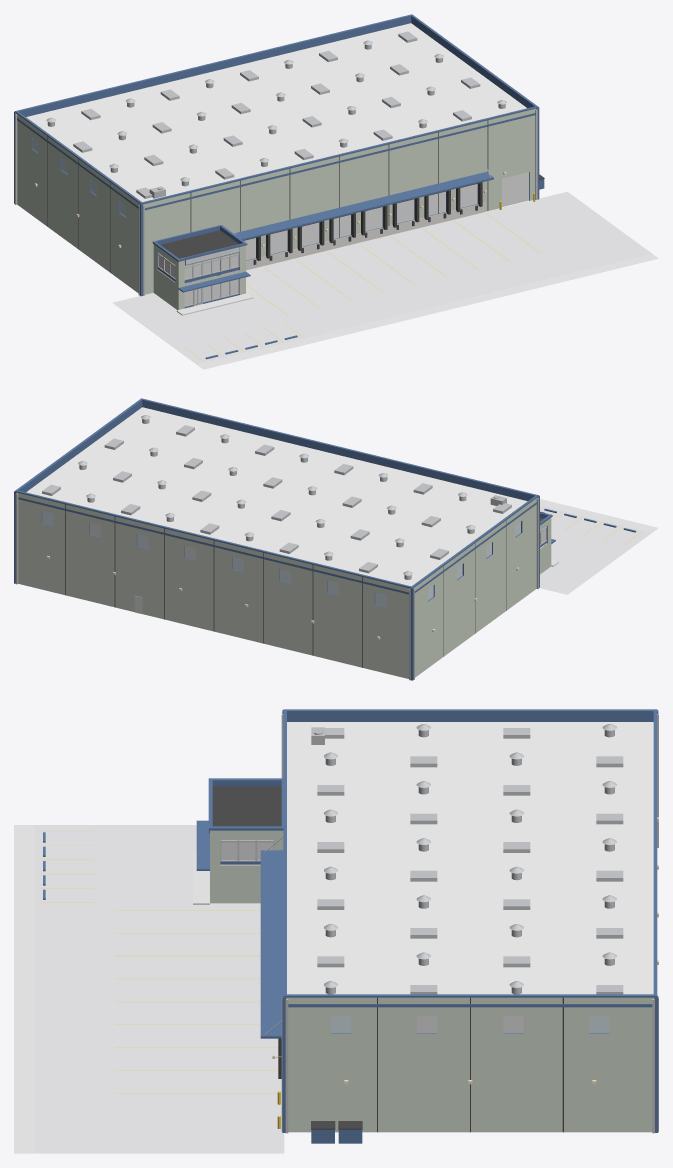
The model's file is industrial_wh200.glb.
The picture shows the model from 3 angles, top to bottom: view 1: azimuth 30°, elevation 25°; view 2: azimuth 150°, elevation 25°; view 3: azimuth 270°, elevation 25°; orthographic projection. The views are drawn at different scales.
Parts seen in each view (by area): view 1: industrial_wh200_Roof, industrial_wh200_Asphalt, industrial_wh200_Walls, industrial_wh200_Trim, industrial_wh200_Roof2, industrial_wh200_Site, industrial_wh200_Frames, industrial_wh200_Doors, industrial_wh200_Details, industrial_wh200_Walls2, industrial_wh200_WindowsLit, industrial_wh200_Paint; view 2: industrial_wh200_Walls, industrial_wh200_Roof, industrial_wh200_Trim, industrial_wh200_Asphalt, industrial_wh200_Frames, industrial_wh200_Details, industrial_wh200_Glass, industrial_wh200_Roof2, industrial_wh200_Site; view 3: industrial_wh200_Roof, industrial_wh200_Asphalt, industrial_wh200_Walls, industrial_wh200_Trim, industrial_wh200_Site, industrial_wh200_Frames, industrial_wh200_Details, industrial_wh200_Roof2, industrial_wh200_Paint, industrial_wh200_WindowsLit, industrial_wh200_Glass.
Boxes of the visible parts, x1,y1,x2,y2 form: industrial_wh200_Roof: [26, 23, 526, 201]; industrial_wh200_Asphalt: [112, 191, 651, 364]; industrial_wh200_Walls: [17, 108, 535, 310]; industrial_wh200_Trim: [14, 14, 544, 359]; industrial_wh200_Roof2: [47, 120, 544, 272]; industrial_wh200_Site: [176, 253, 658, 369]; industrial_wh200_Frames: [73, 31, 480, 306]; industrial_wh200_Doors: [244, 172, 528, 260]; industrial_wh200_Details: [14, 40, 537, 299]; industrial_wh200_Walls2: [217, 202, 486, 275]; industrial_wh200_WindowsLit: [158, 253, 238, 305]; industrial_wh200_Paint: [185, 213, 541, 361]; industrial_wh200_Walls: [17, 492, 551, 678]; industrial_wh200_Roof: [26, 407, 527, 586]; industrial_wh200_Trim: [14, 398, 636, 680]; industrial_wh200_Asphalt: [539, 505, 651, 594]; industrial_wh200_Frames: [42, 425, 546, 573]; industrial_wh200_Details: [15, 415, 538, 680]; industrial_wh200_Glass: [42, 511, 520, 606]; industrial_wh200_Roof2: [65, 504, 543, 667]; industrial_wh200_Site: [540, 499, 658, 566]; industrial_wh200_Roof: [287, 722, 653, 994]; industrial_wh200_Asphalt: [34, 825, 284, 1153]; industrial_wh200_Walls: [210, 830, 654, 1132]; industrial_wh200_Trim: [43, 709, 658, 1143]; industrial_wh200_Site: [14, 825, 209, 1153]; industrial_wh200_Frames: [220, 728, 623, 994]; industrial_wh200_Details: [264, 713, 658, 1133]; industrial_wh200_Roof2: [212, 786, 563, 1132]; industrial_wh200_Paint: [37, 831, 277, 1093]; industrial_wh200_WindowsLit: [221, 839, 523, 1033]; industrial_wh200_Glass: [331, 1015, 609, 1033].
Bounding box in the file's own units: 230 × 45.1 × 191.
